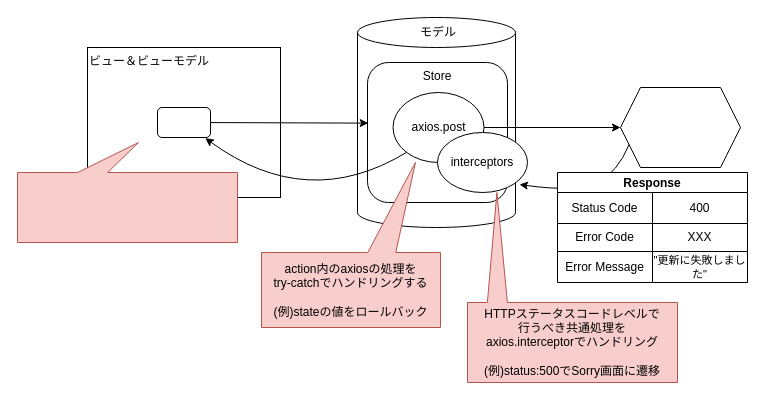
The diagram is 765 pixels wide and 400 high, and some of its shapes have lost their labels. The shapes that lost their labels are listed below. From the top down, each one's centre as x and y in pixels, then its label:
point (183, 122): 更新
point (680, 127): Server
point (127, 192): storeの処理を try-catchでハンドリング (例)処理に失敗したメッセージを表示
